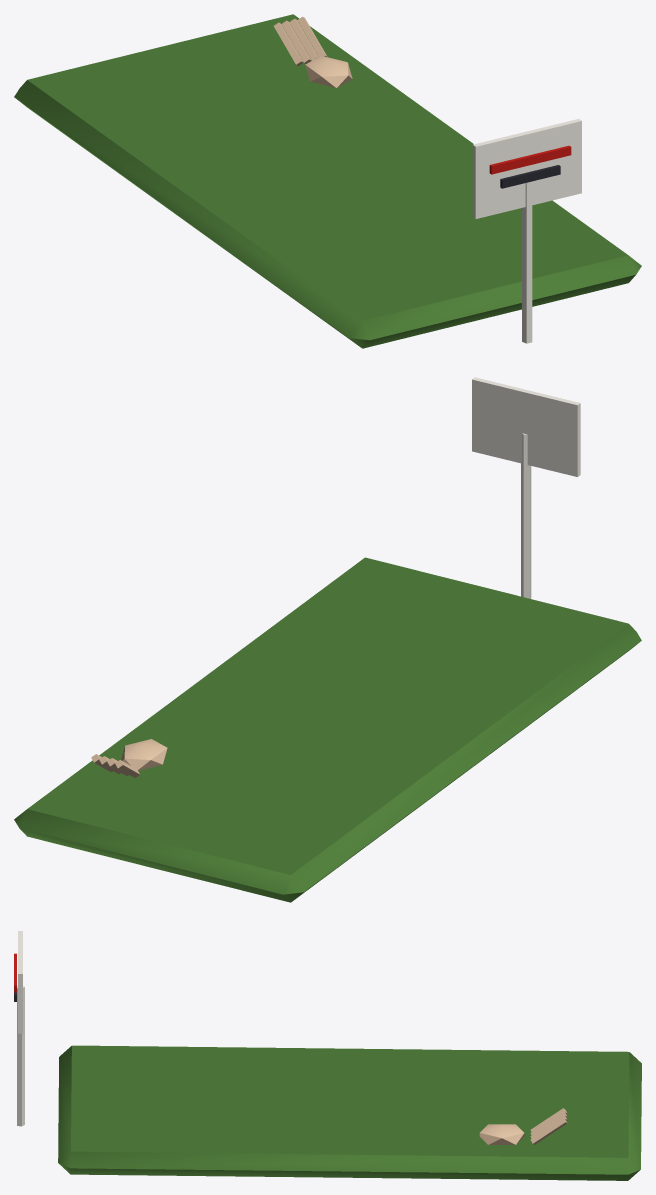
File: lawn_grave.glb
3 views of the same model, one above another, from view 1: azimuth 30°, elevation 25°; view 2: azimuth 150°, elevation 25°; view 3: azimuth 270°, elevation 25° (orthographic). The views are drawn at different scales.
Visible parts, largest first — view 1: lawn_grave; view 2: lawn_grave; view 3: lawn_grave.
Boxes of the visible parts, x1=… form: lawn_grave: x1=14, y1=14, x2=641, y2=348; lawn_grave: x1=14, y1=377, x2=641, y2=902; lawn_grave: x1=14, y1=931, x2=641, y2=1180.
Bounding box in the file's own units: 1.11 × 0.7639 × 2.48.
